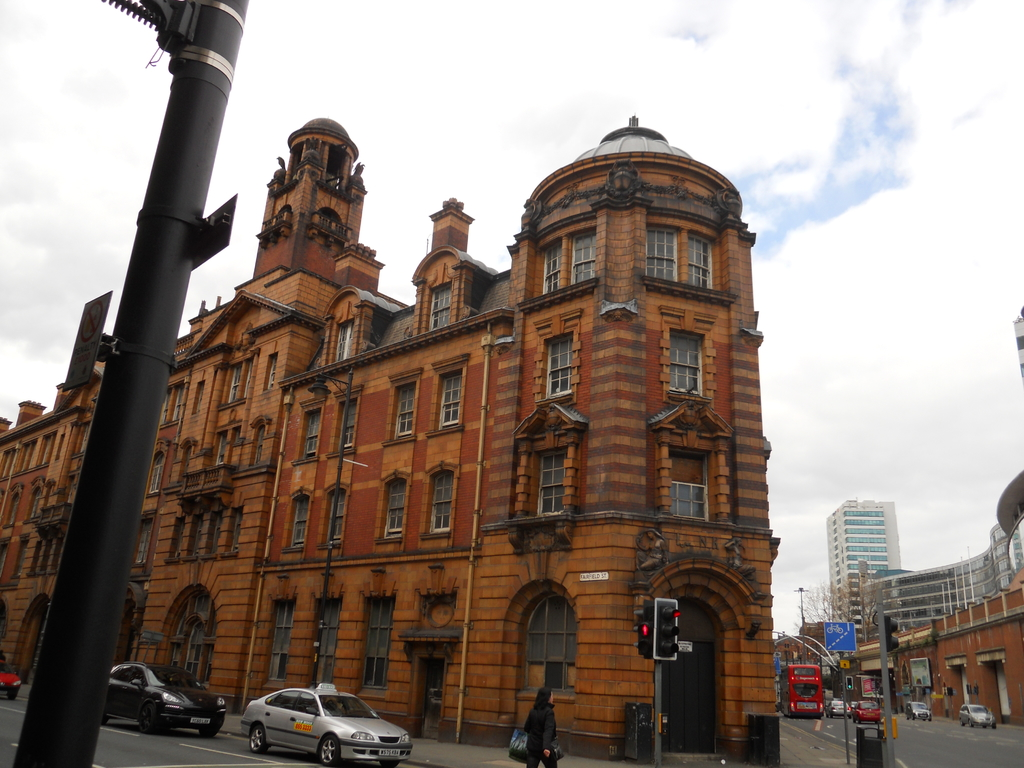cars: (246, 679, 404, 767), (96, 671, 216, 750), (0, 663, 23, 698), (958, 703, 989, 724), (856, 692, 881, 718), (822, 698, 851, 717), (912, 695, 926, 720)
